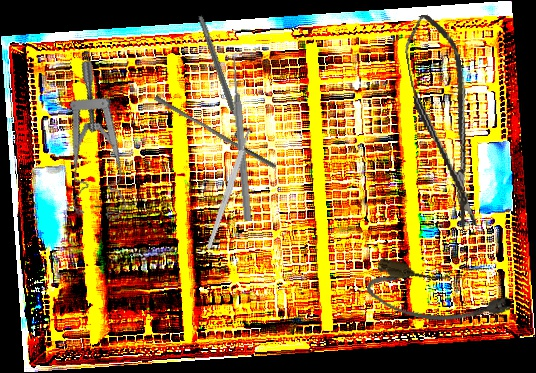Cannula: (362, 255, 516, 340)
Fixation Ring: (190, 12, 254, 140)
Micro Scissor: (399, 10, 490, 233)
Pusher: (151, 94, 280, 170), (228, 55, 254, 222)
Scalpel Handle: (204, 127, 254, 252)
Speculum: (36, 58, 166, 228)
